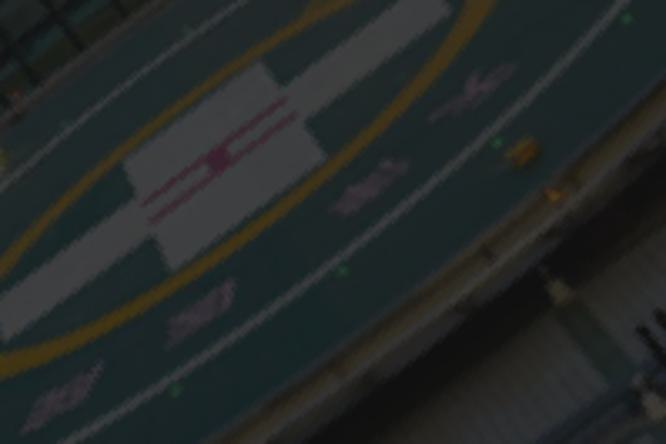Apron: (1, 1, 496, 384)
